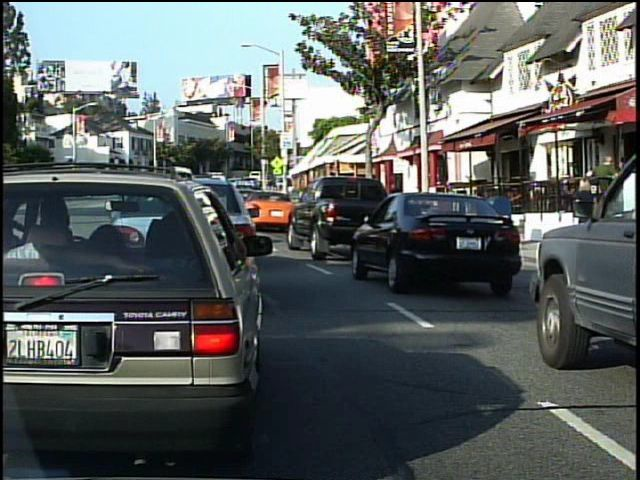person: (588, 150, 624, 240), (570, 173, 606, 262)
